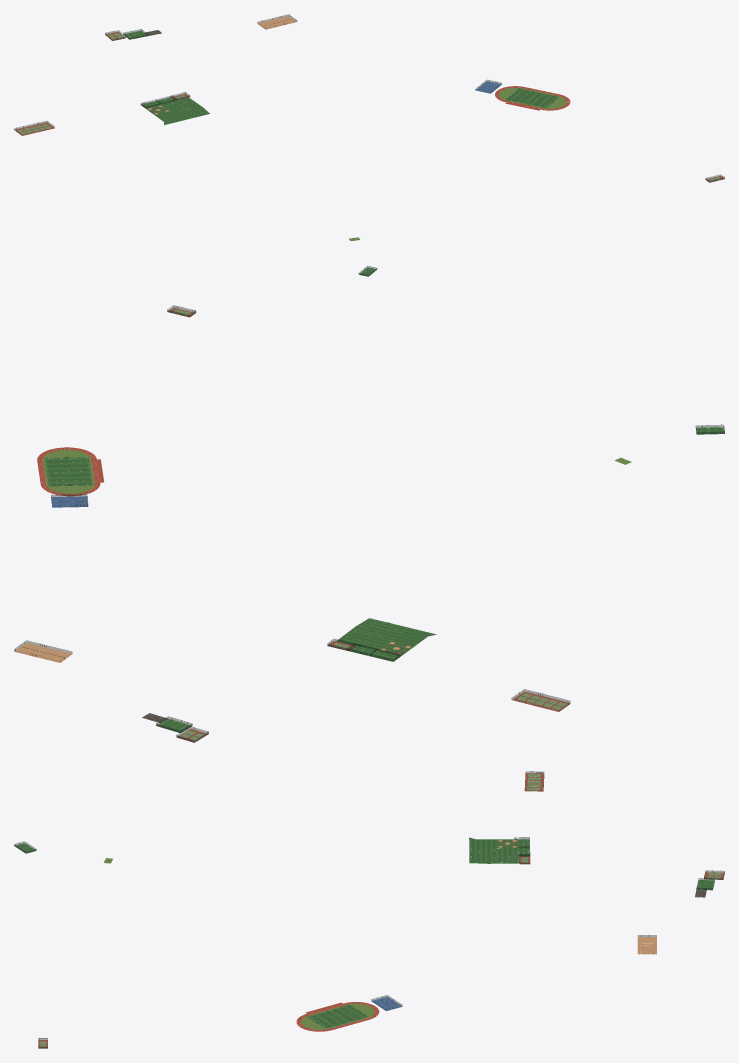
3 renders of one model, top to bottom at view 1: azimuth 30°, elevation 25°; view 2: azimuth 150°, elevation 25°; view 3: azimuth 270°, elevation 25°, orthographic. The views are drawn at different scales.
Parts seen in each view (by area): view 1: sports; view 2: sports; view 3: sports.
Boxes of the visible parts, x1,y1,x2,y2 form: sports: (14, 14, 724, 276); sports: (14, 305, 724, 742); sports: (14, 771, 724, 1048).
Bounding box in the file's own units: 1236 × 20.9 × 1376.
